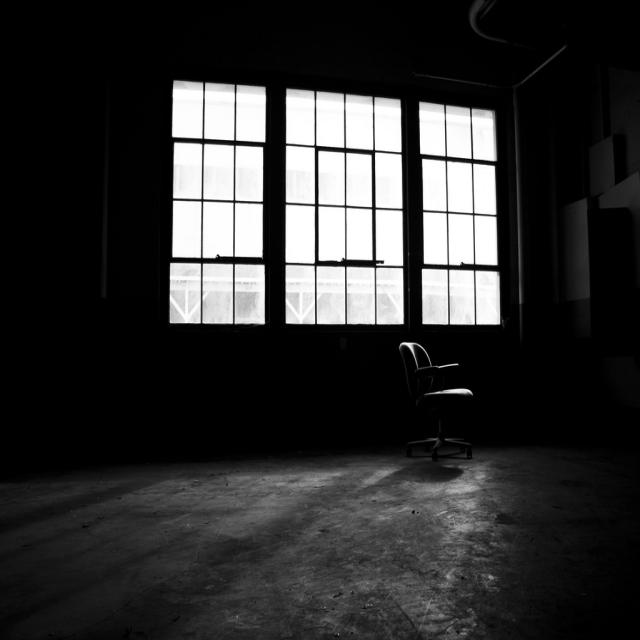chair: (402, 327, 485, 468)
